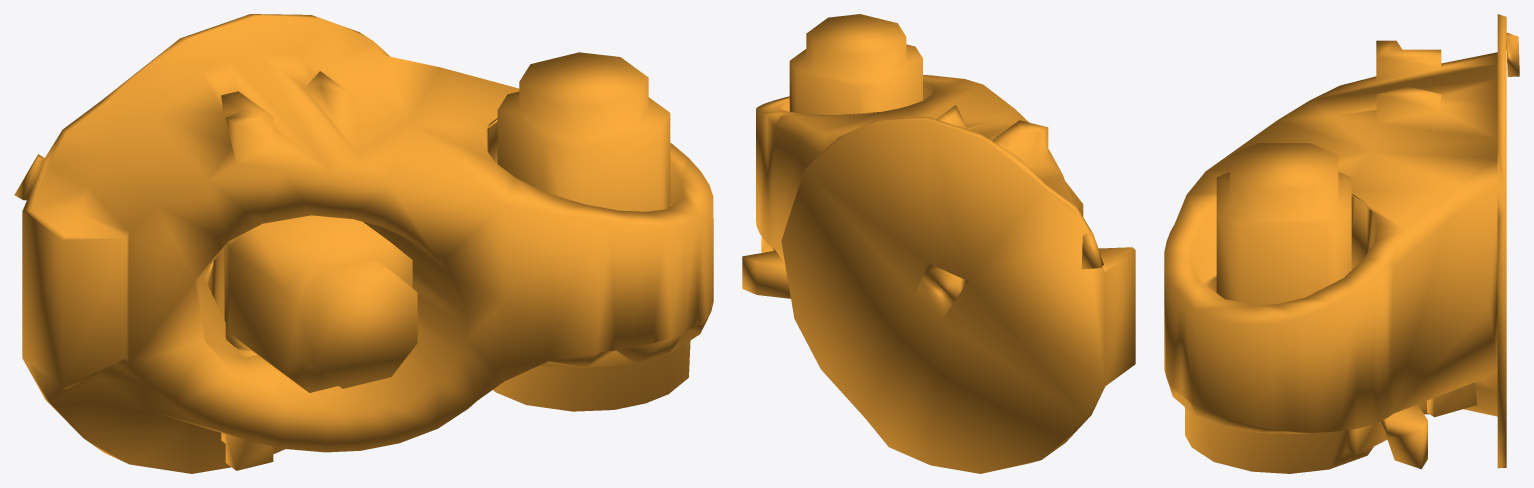
The model's file is KukaKR60Link1.dae.
3 renders of one model, left to right at view 1: azimuth 30°, elevation 25°; view 2: azimuth 150°, elevation 25°; view 3: azimuth 270°, elevation 25°, orthographic. The views are drawn at different scales.
Visible parts, largest first — view 1: link1; view 2: link1; view 3: link1.
Part boxes in pixels (box(x1,y1,x2,y2)): link1: box(14, 14, 713, 473); link1: box(742, 14, 1135, 473); link1: box(1164, 14, 1519, 473).
Size of the model in its own units: 0.8451 by 0.5059 by 0.6478.
